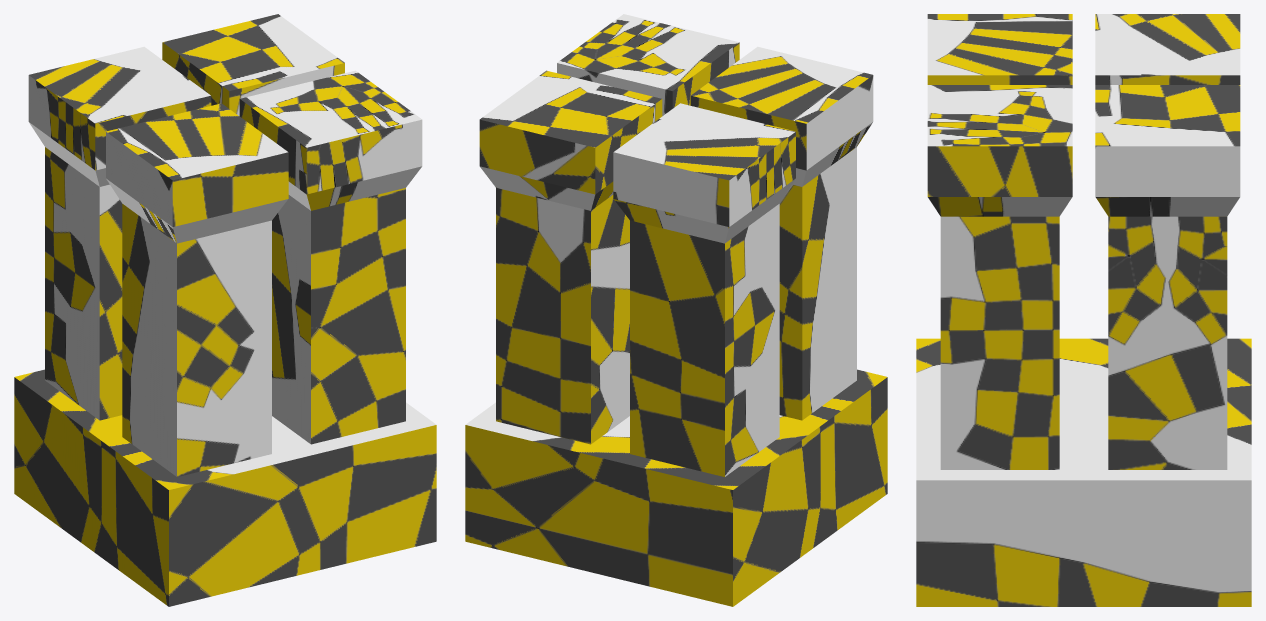
File: boxes.dae
The picture shows the model from 3 angles, left to right: view 1: azimuth 30°, elevation 25°; view 2: azimuth 150°, elevation 25°; view 3: azimuth 270°, elevation 25°; orthographic projection. The views are drawn at different scales.
Parts seen in each view (by area): view 1: SketchUp_001; view 2: SketchUp_001; view 3: SketchUp_001.
Part boxes in pixels (x1=…): SketchUp_001: x1=14, y1=14, x2=436, y2=606; SketchUp_001: x1=465, y1=14, x2=887, y2=606; SketchUp_001: x1=916, y1=14, x2=1251, y2=606.
Size of the model in its own units: 2.4 by 2.4 by 3.6.
